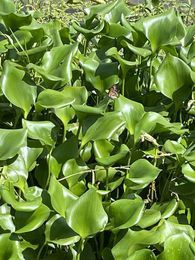water_hyacinth: (1, 0, 194, 260)
